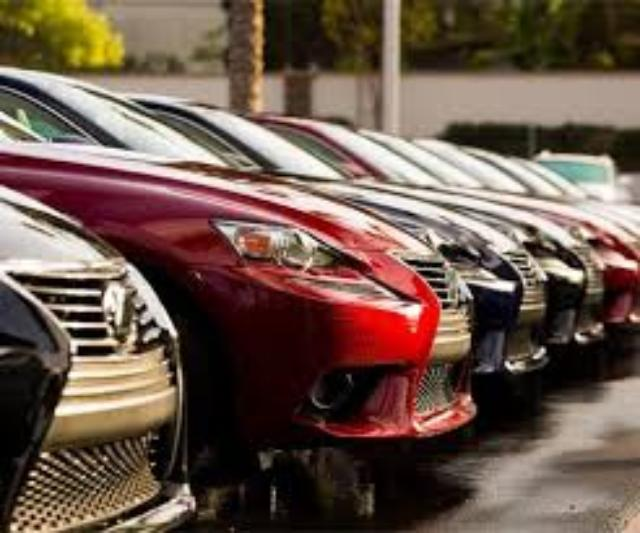lexus: (1, 91, 604, 411), (0, 62, 548, 380), (0, 138, 478, 450), (0, 183, 196, 533)
